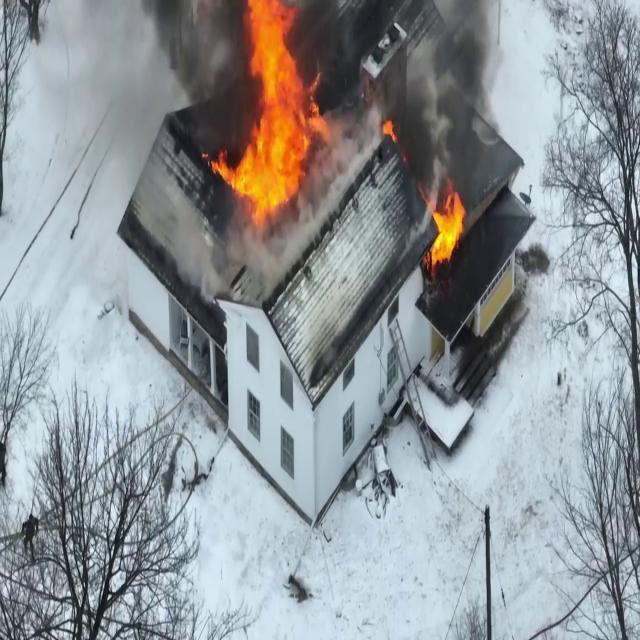Fire: (217, 1, 331, 230), (424, 184, 470, 274)
Smoke: (378, 0, 485, 196)
